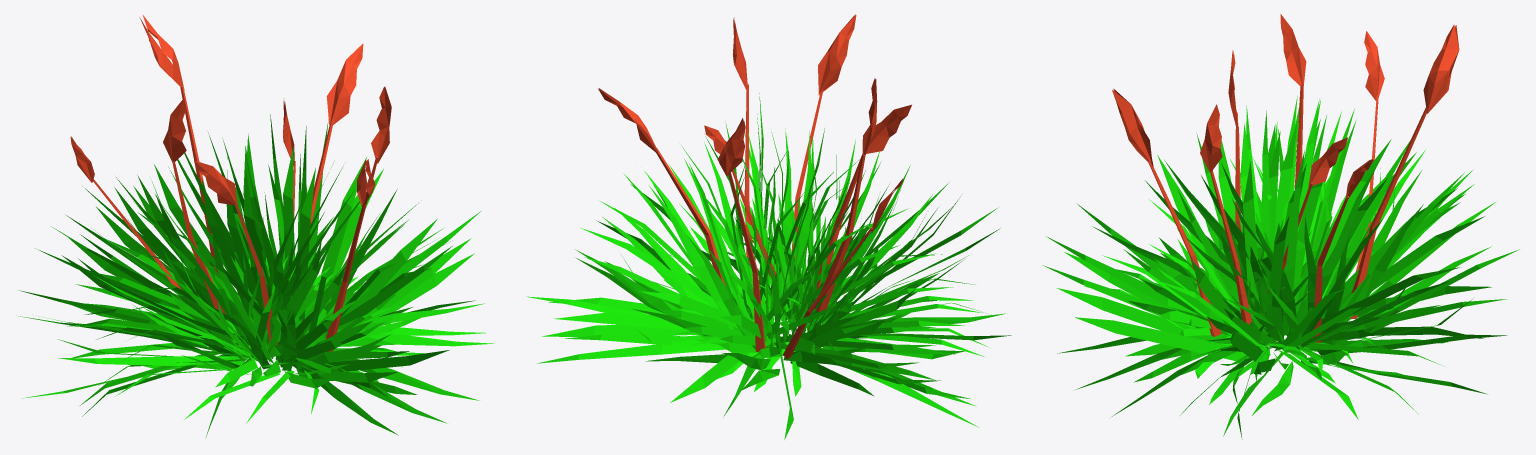
Rendered from SM_Grass_B.fbx.
3 views of the same model, side by side, from view 1: azimuth 30°, elevation 25°; view 2: azimuth 150°, elevation 25°; view 3: azimuth 270°, elevation 25° (orthographic). The views are drawn at different scales.
Parts seen in each view (by area): view 1: SM_Grass_B; view 2: SM_Grass_B; view 3: SM_Grass_B.
Boxes of the visible parts, x1=… form: SM_Grass_B: x1=16, y1=15, x2=493, y2=437; SM_Grass_B: x1=526, y1=14, x2=1011, y2=439; SM_Grass_B: x1=1042, y1=14, x2=1519, y2=439.
Size of the model in its own units: 1.24 by 0.969 by 1.22.
